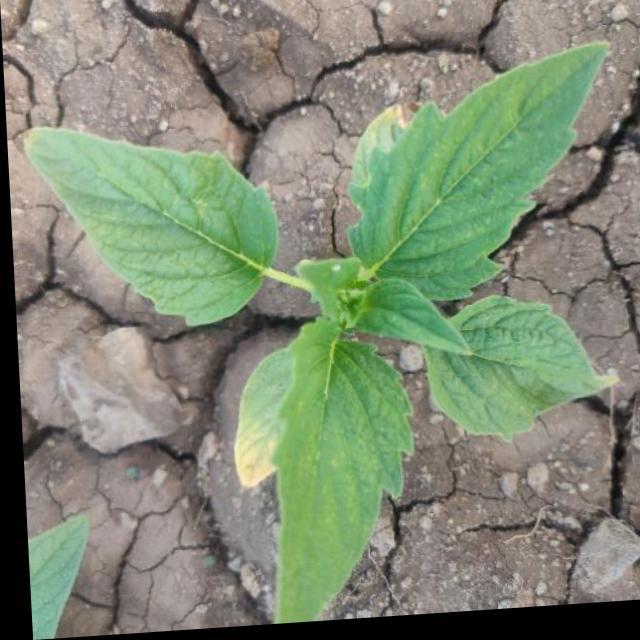crop: (10, 40, 635, 639)
